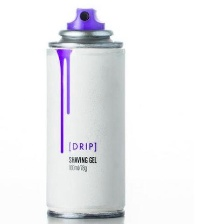aerosol_cans: (42, 4, 129, 221)
